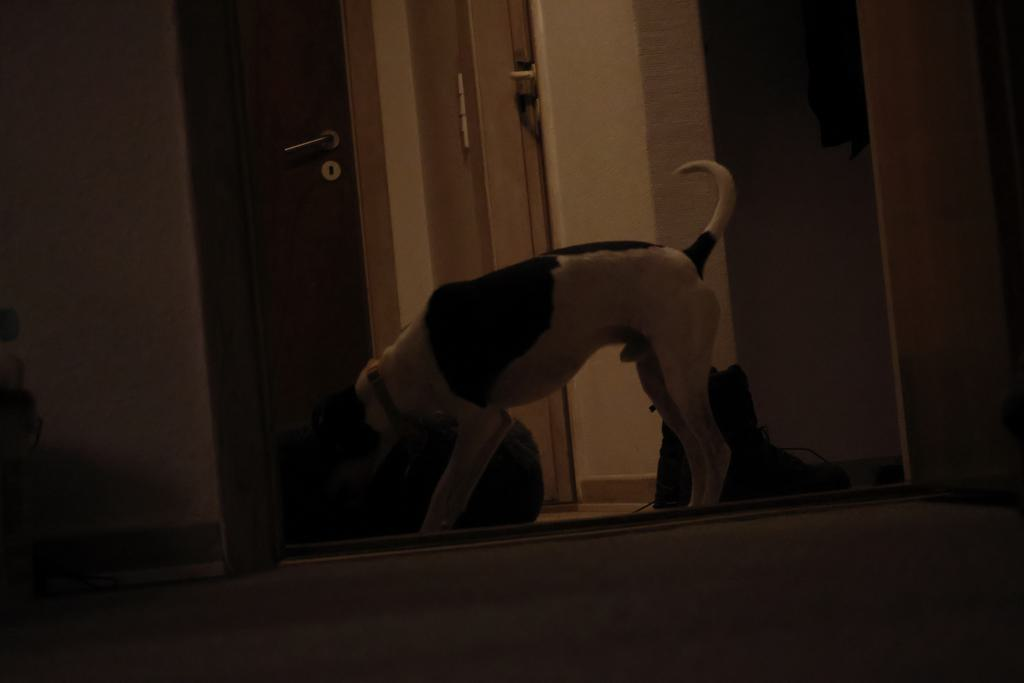Dog: (300, 156, 743, 520)
